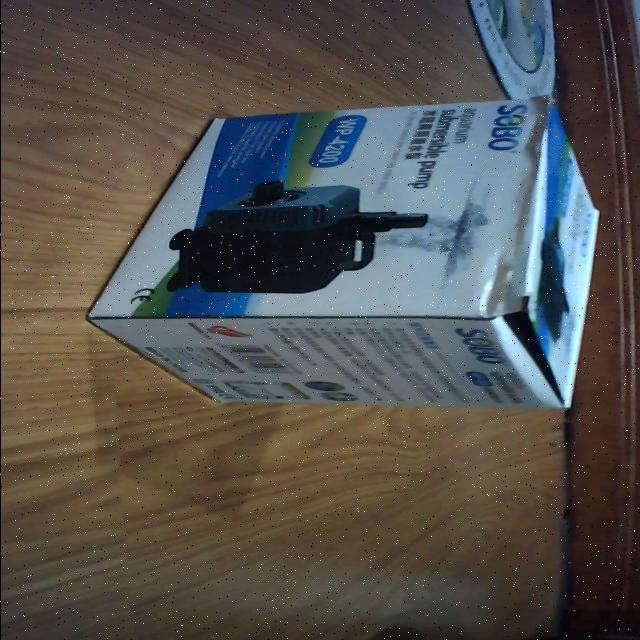SOBO_WP_4200: (80, 97, 606, 406)
